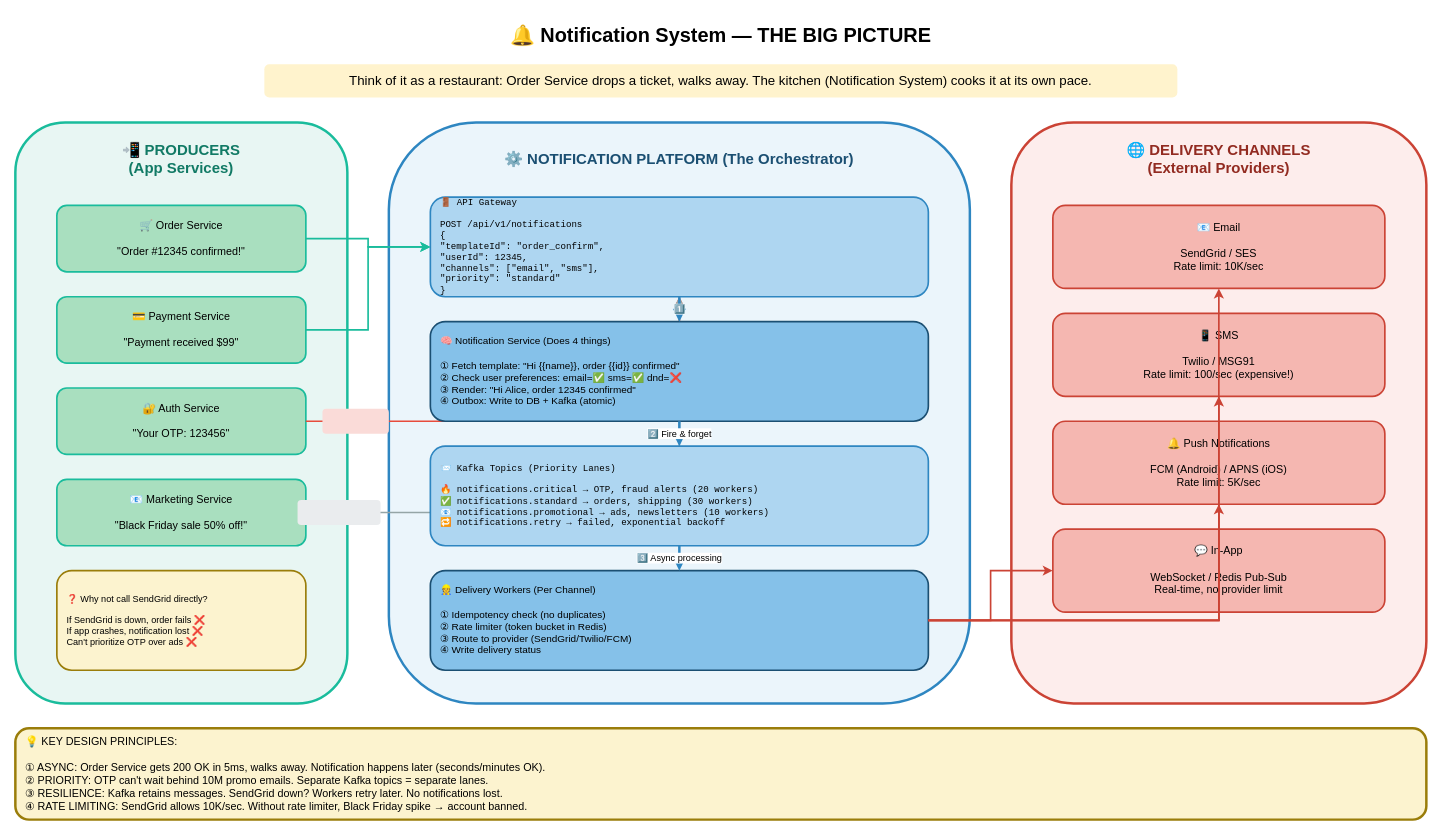
Image size: 1442x835. Some labels were removed from this diagram. Each missing label, with the centre of its shape:
📉 LOW PRIORITY: [338,512]
🔥 CRITICAL: [355,420]
